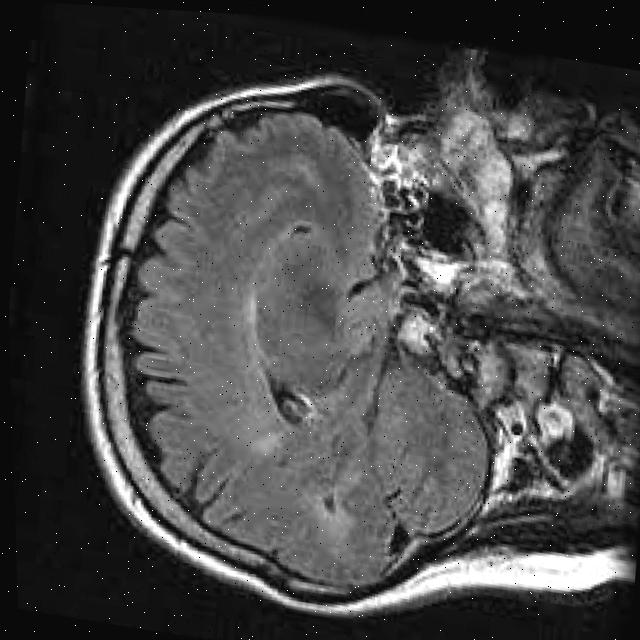NoTumor: (45, 29, 529, 640)
